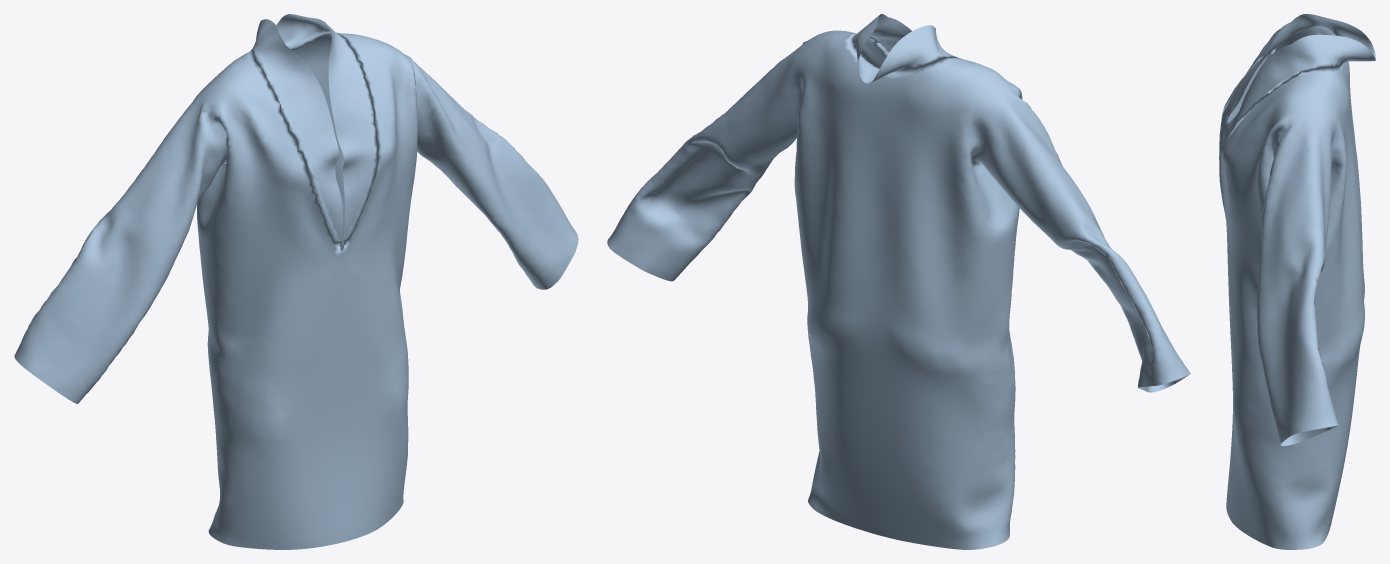
File: coat_M.glb
3 views of the same model, side by side, from view 1: azimuth 30°, elevation 25°; view 2: azimuth 150°, elevation 25°; view 3: azimuth 270°, elevation 25° (orthographic). The views are drawn at different scales.
Visible parts, largest first — view 1: geometry_0; view 2: geometry_0; view 3: geometry_0.
Boxes of the visible parts, box(x1,y1,x2,y2) form: geometry_0: box(14, 14, 578, 549); geometry_0: box(607, 14, 1190, 549); geometry_0: box(1219, 14, 1375, 549).
Size of the model in its own units: 1.21 by 1.02 by 0.2997.
